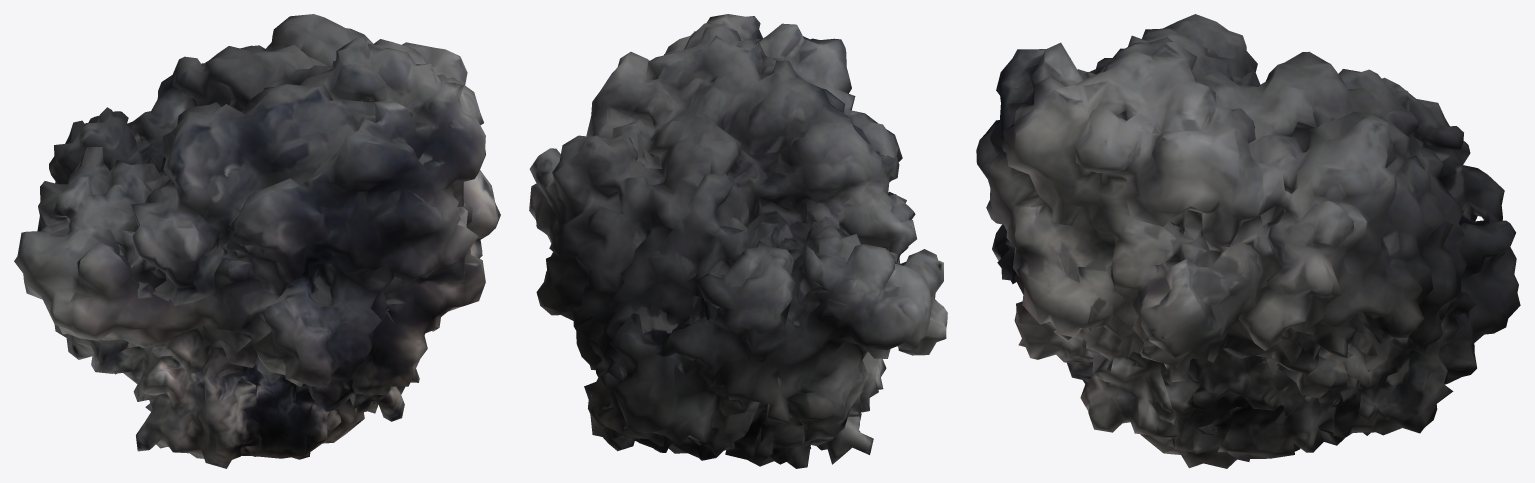
The model's file is humo_1125201327_refine.fbx.
The picture shows the model from 3 angles, left to right: view 1: azimuth 30°, elevation 25°; view 2: azimuth 150°, elevation 25°; view 3: azimuth 270°, elevation 25°; orthographic projection. The views are drawn at different scales.
Visible parts, largest first — view 1: Mesh_0; view 2: Mesh_0; view 3: Mesh_0.
Boxes of the visible parts, x1,y1,x2,y2 form: Mesh_0: [14, 14, 500, 468]; Mesh_0: [529, 14, 947, 468]; Mesh_0: [976, 14, 1520, 468].
Bounding box in the file's own units: 192 × 177 × 199.
Materials: 1 (1 with a texture image).
